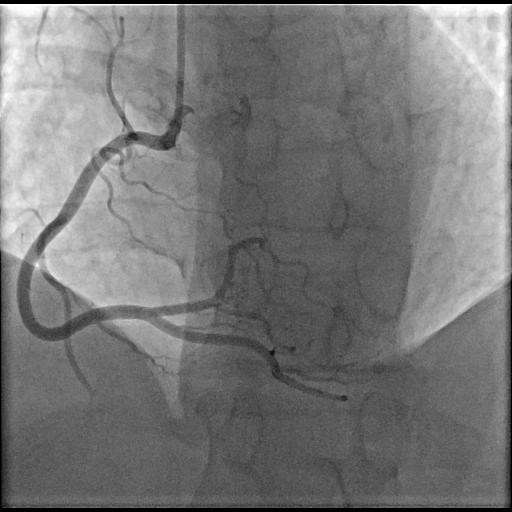RCA: (16, 123, 282, 377)
catherter: (168, 2, 188, 133)
